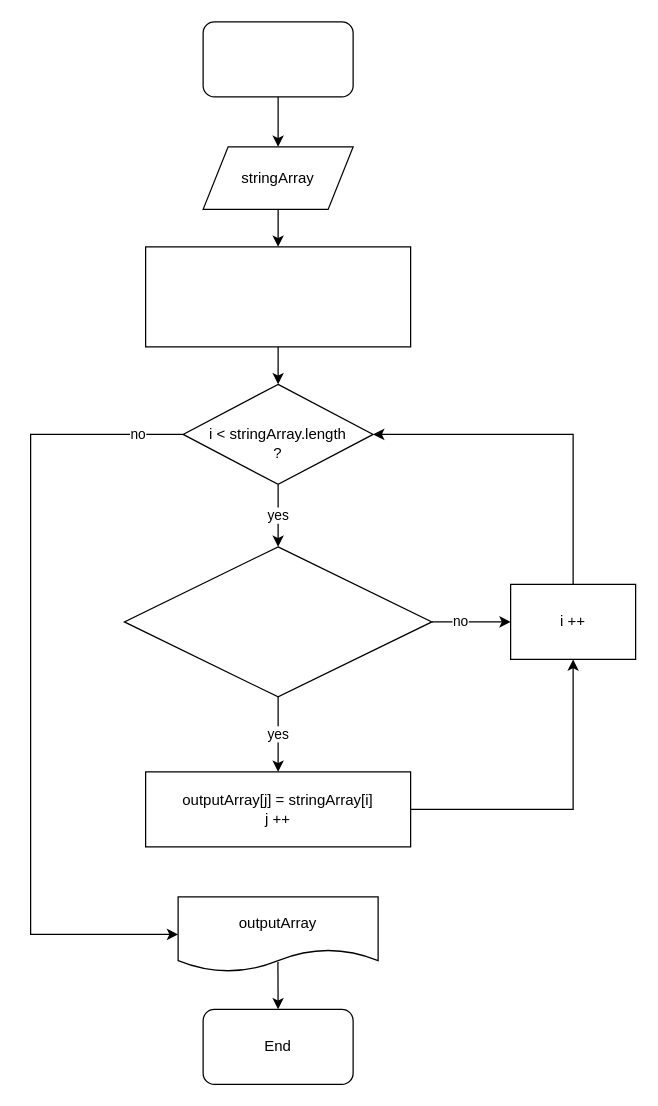
Some shapes in this 658 by 1106 pixel diagram are drawn without their labels. Each missing label, with the box of its shape:
maxQuantity = 3 i = 0 outputArray = [] j = 0: (144, 246, 411, 347)
Start: (202, 21, 353, 97)
stringArray[i].length <= maxQuantity ?: (123, 546, 432, 697)
